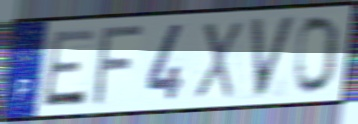4: (144, 21, 187, 105)
E: (40, 26, 98, 110)
F: (89, 22, 148, 109)
O: (292, 13, 343, 97)
V: (247, 13, 299, 102)
X: (192, 19, 244, 101)
